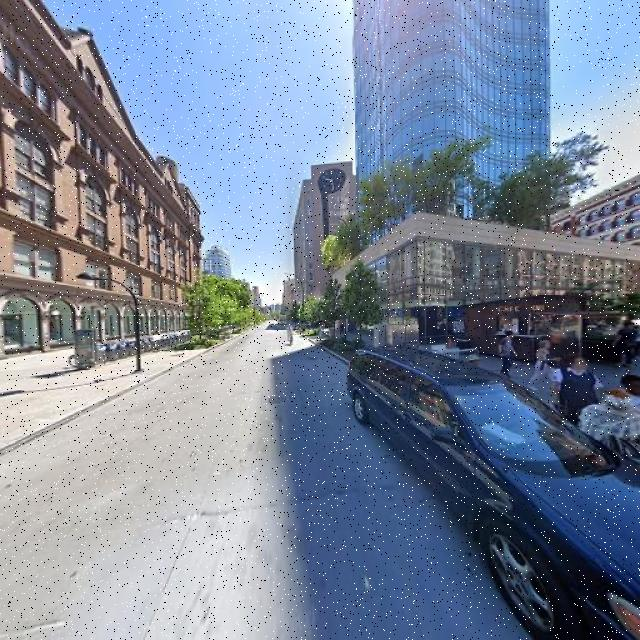Building: (1, 1, 202, 353), (333, 214, 640, 349)
